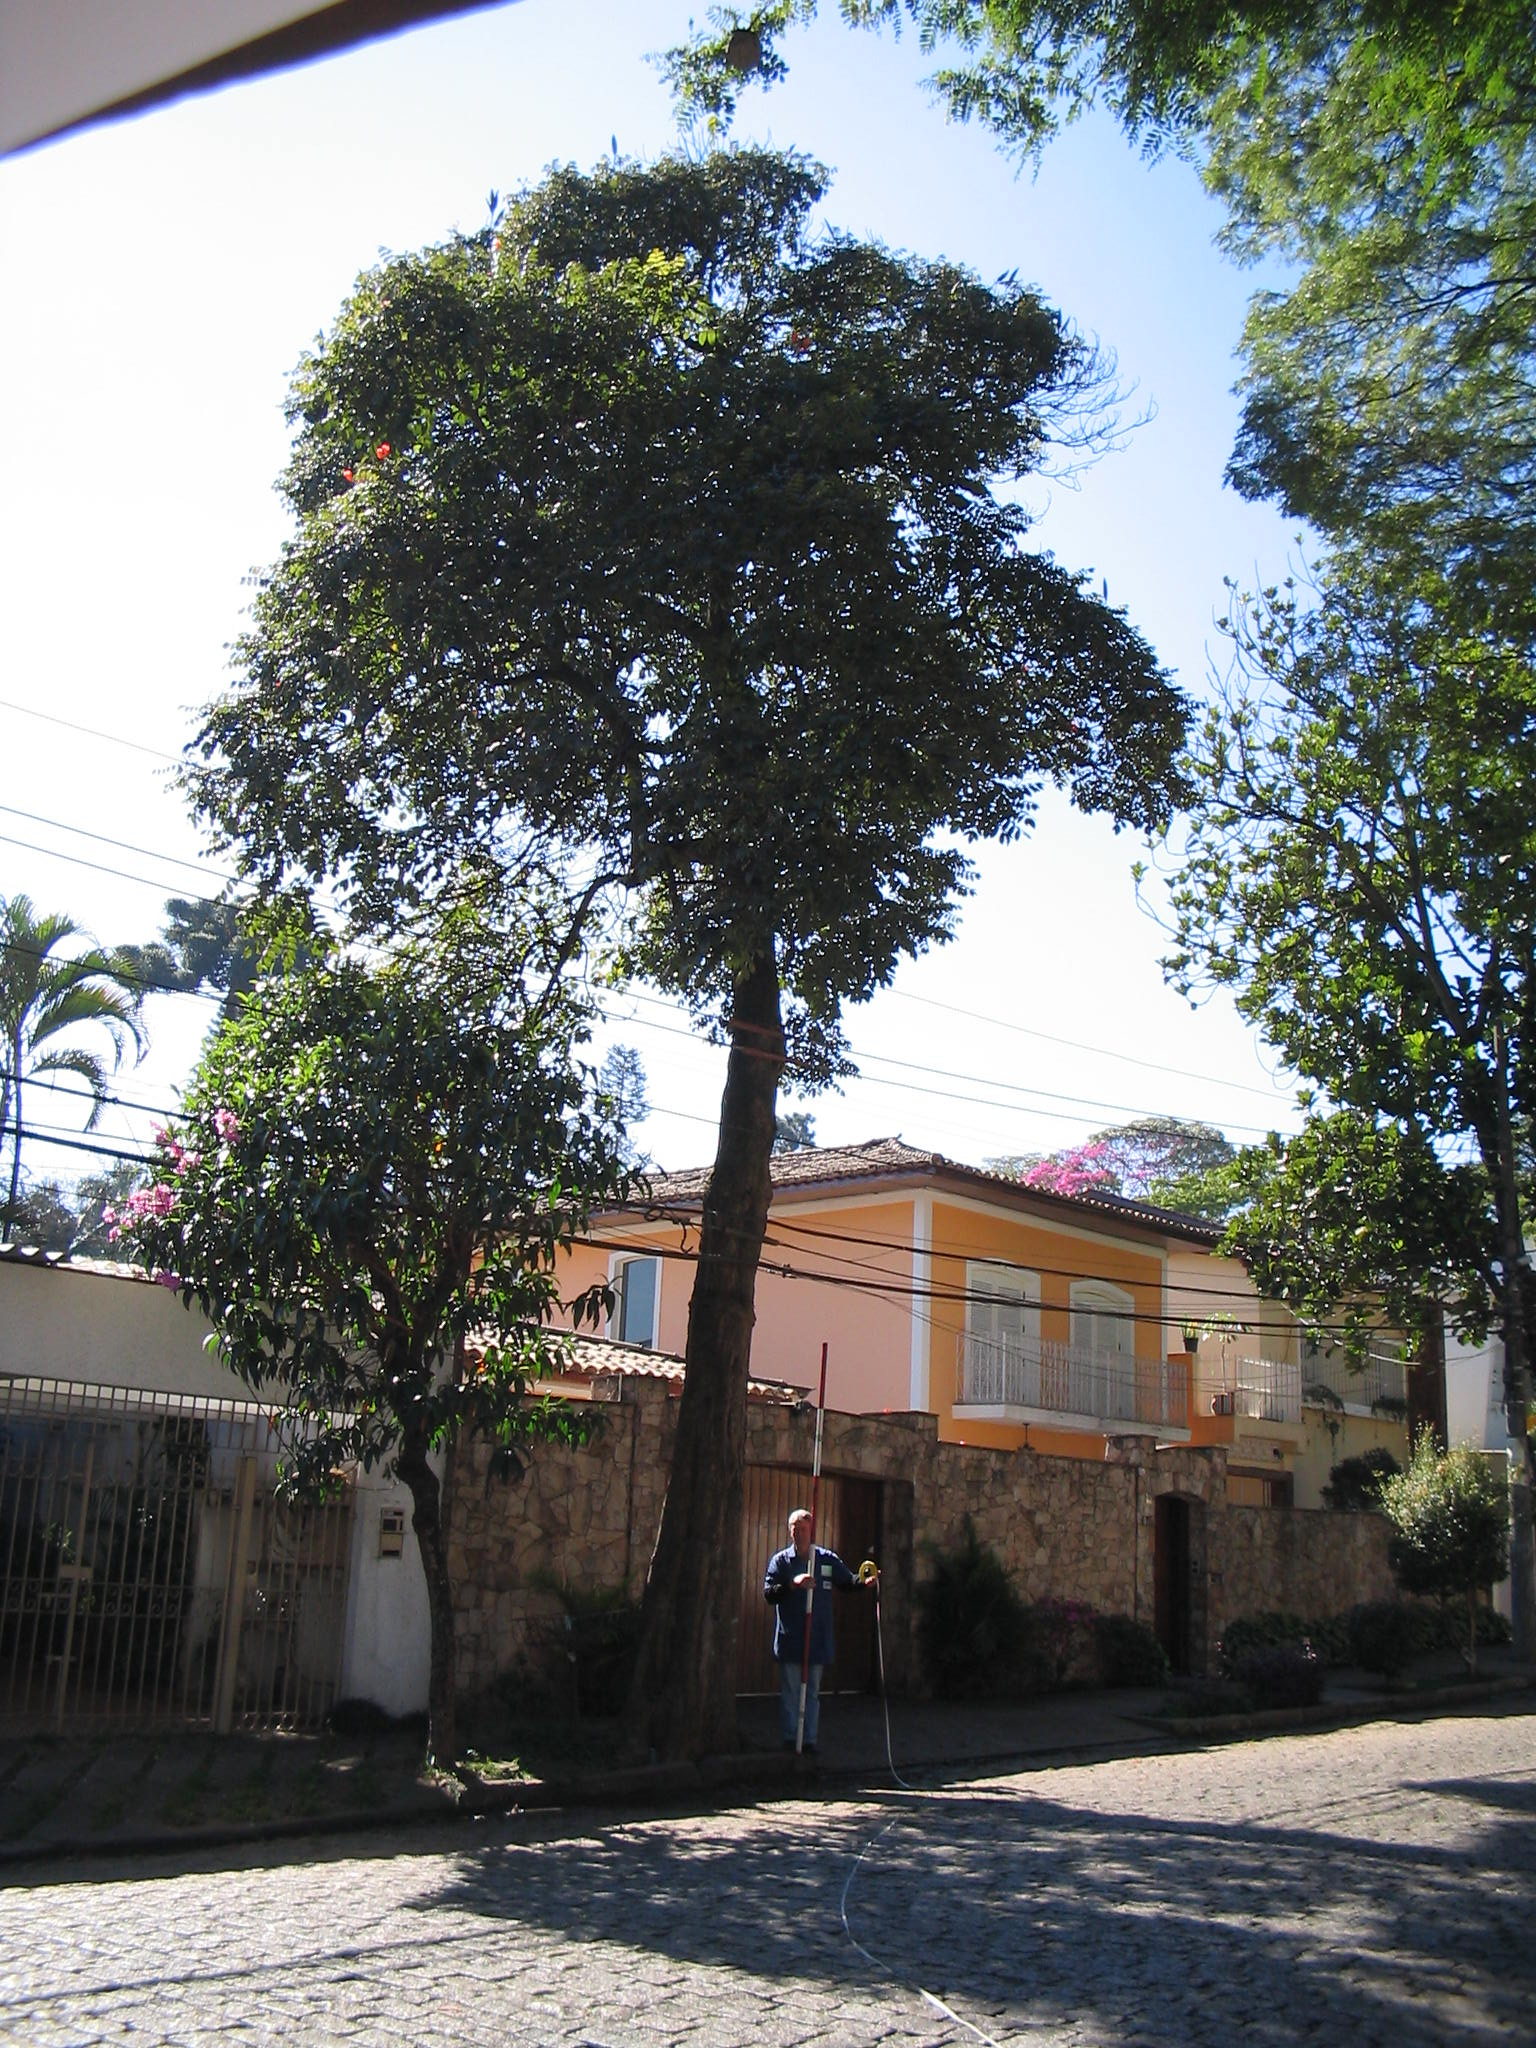crown: (189, 150, 1191, 1105), (111, 903, 660, 1517)
stem: (610, 992, 794, 1761), (374, 1476, 482, 1761)
stick: (783, 1342, 837, 1751)
tree: (181, 147, 1199, 1761), (102, 903, 670, 1758)
